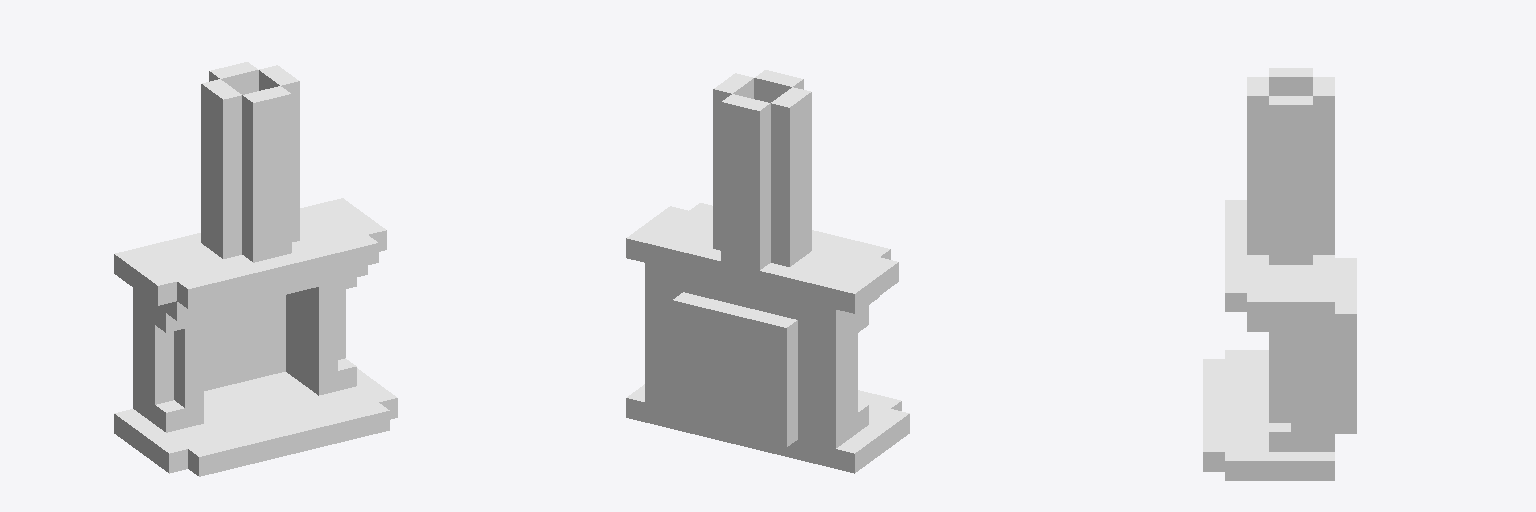
File: tavern-61-fireplace.obj
The picture shows the model from 3 angles: view 1: azimuth 30°, elevation 25°; view 2: azimuth 150°, elevation 25°; view 3: azimuth 270°, elevation 25°; orthographic projection.
Visible parts, largest first — view 1: fireplace; view 2: fireplace; view 3: fireplace.
Boxes of the visible parts, box(x1,y1,x2,y2) form: fireplace: box(114, 62, 397, 476); fireplace: box(626, 70, 909, 473); fireplace: box(1203, 68, 1356, 480).
Bounding box in the file's own units: 1.2 × 1.7 × 0.7.